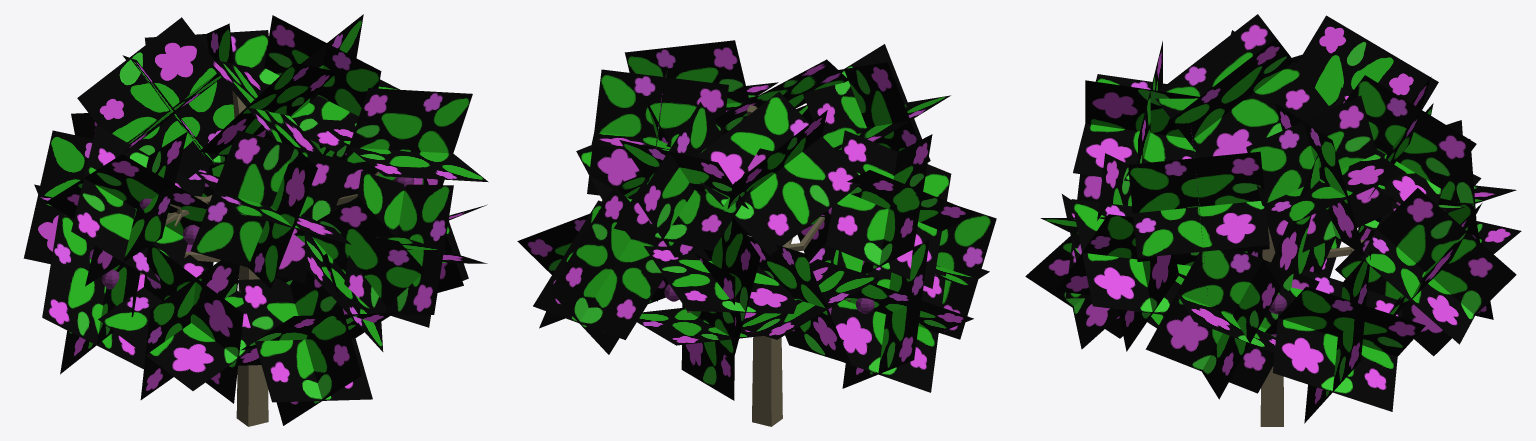
File: CaySim2.fbx
The picture shows the model from 3 angles, left to right: view 1: azimuth 30°, elevation 25°; view 2: azimuth 150°, elevation 25°; view 3: azimuth 270°, elevation 25°; orthographic projection. The views are drawn at different scales.
Parts seen in each view (by area): view 1: Bush, Branch, Berry; view 2: Bush, Branch; view 3: Bush, Branch.
Part boxes in pixels (<box>): Bush: <box>23,14,488,425</box>; Branch: <box>140,90,393,426</box>; Berry: <box>89,177,414,289</box>; Bush: <box>517,40,996,400</box>; Branch: <box>687,105,850,426</box>; Bush: <box>1025,14,1521,423</box>; Branch: <box>1260,227,1364,426</box>.
Bounding box in the file's own units: 566 × 500 × 569.
Materials: 3 (1 with a texture image).
